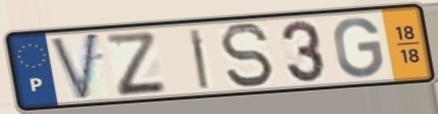3: (280, 19, 328, 84)
G: (331, 15, 386, 80)
I: (187, 26, 212, 91)
S: (216, 21, 277, 90)
V: (47, 29, 102, 104)
Z: (101, 30, 170, 98)
